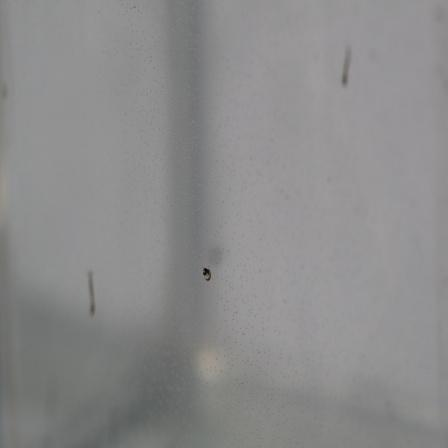Jentik-Nyamuk: (197, 263, 217, 288)
